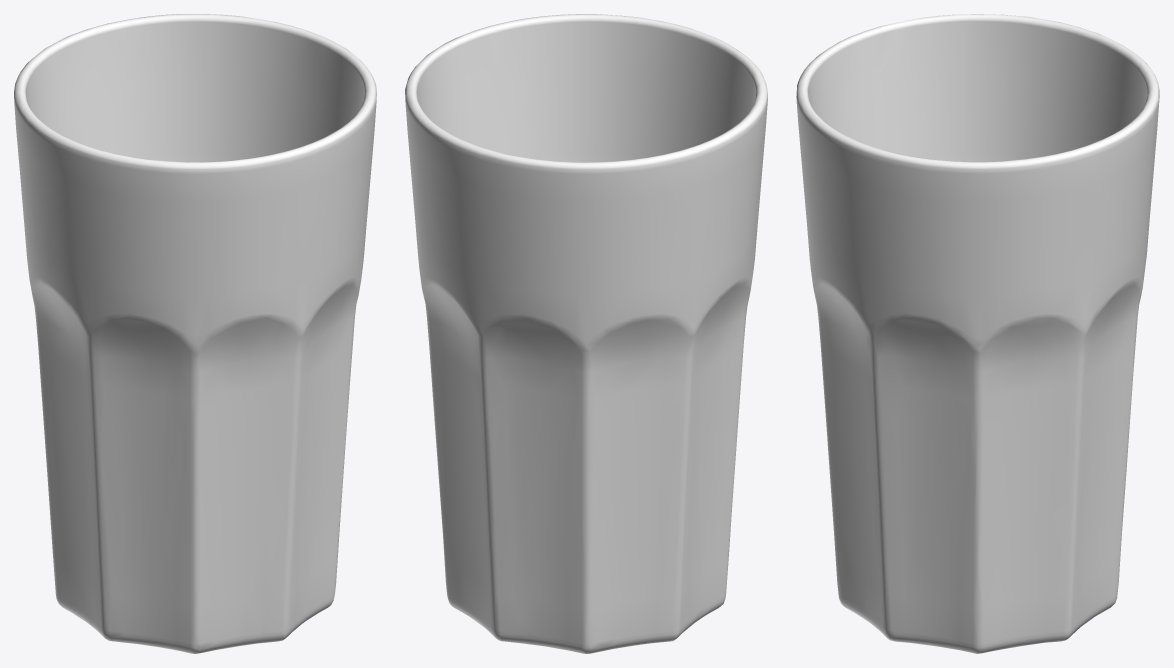
The model's file is pokal_szklanka_10270478.glb.
3 views of the same model, side by side, from view 1: azimuth 30°, elevation 25°; view 2: azimuth 150°, elevation 25°; view 3: azimuth 270°, elevation 25° (orthographic).
Parts seen in each view (by area): view 1: pokal_szklanka_10270478; view 2: pokal_szklanka_10270478; view 3: pokal_szklanka_10270478.
Part boxes in pixels (x1,y1,x2,y2): pokal_szklanka_10270478: [14, 14, 376, 653]; pokal_szklanka_10270478: [405, 14, 767, 653]; pokal_szklanka_10270478: [796, 14, 1159, 653].
Bounding box in the file's own units: 0.087 × 0.1351 × 0.087.
Materials: 1 (1 with a texture image).
